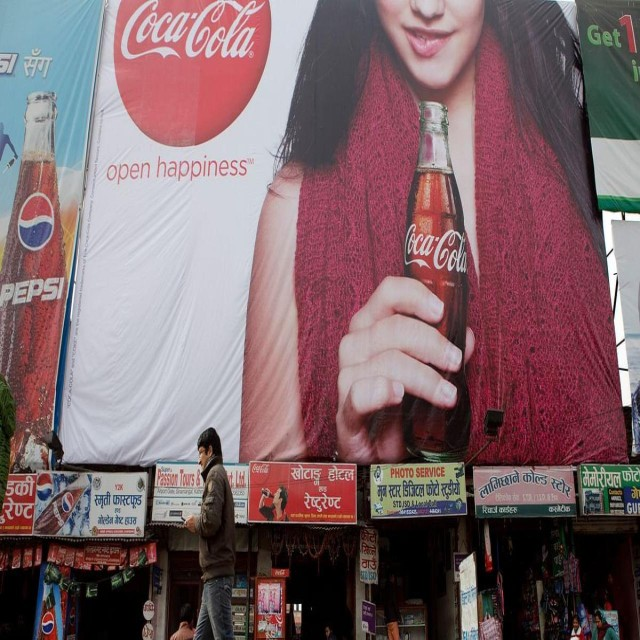pepsi: (16, 187, 57, 257), (35, 472, 55, 503), (40, 609, 55, 635), (62, 490, 74, 515)
